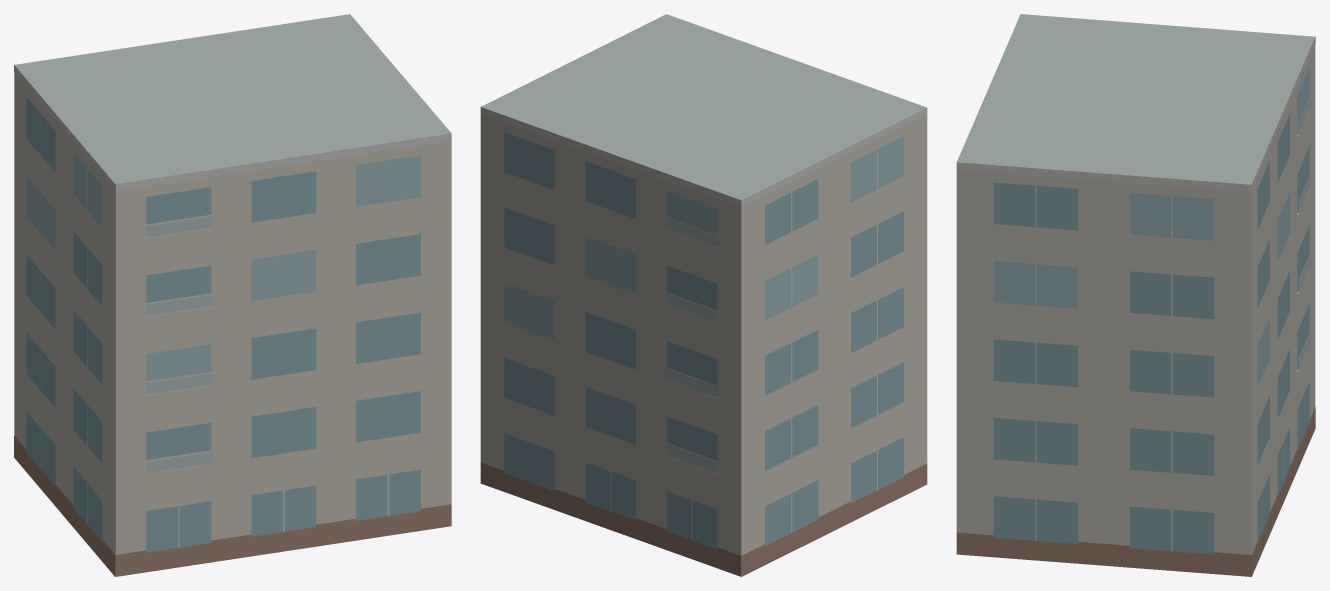
Rendered from survey-upis-32984505.glb.
The picture shows the model from 3 angles, left to right: view 1: azimuth 30°, elevation 25°; view 2: azimuth 150°, elevation 25°; view 3: azimuth 270°, elevation 25°; orthographic projection. The views are drawn at different scales.
Parts seen in each view (by area): view 1: survey-upis-32984505.tmp; view 2: survey-upis-32984505.tmp; view 3: survey-upis-32984505.tmp.
Part boxes in pixels (x1,y1,x2,y2): survey-upis-32984505.tmp: (14,14,451,576); survey-upis-32984505.tmp: (480,14,927,576); survey-upis-32984505.tmp: (956,14,1315,576).
Bounding box in the file's own units: 12.34 × 13.2 × 10.95.
